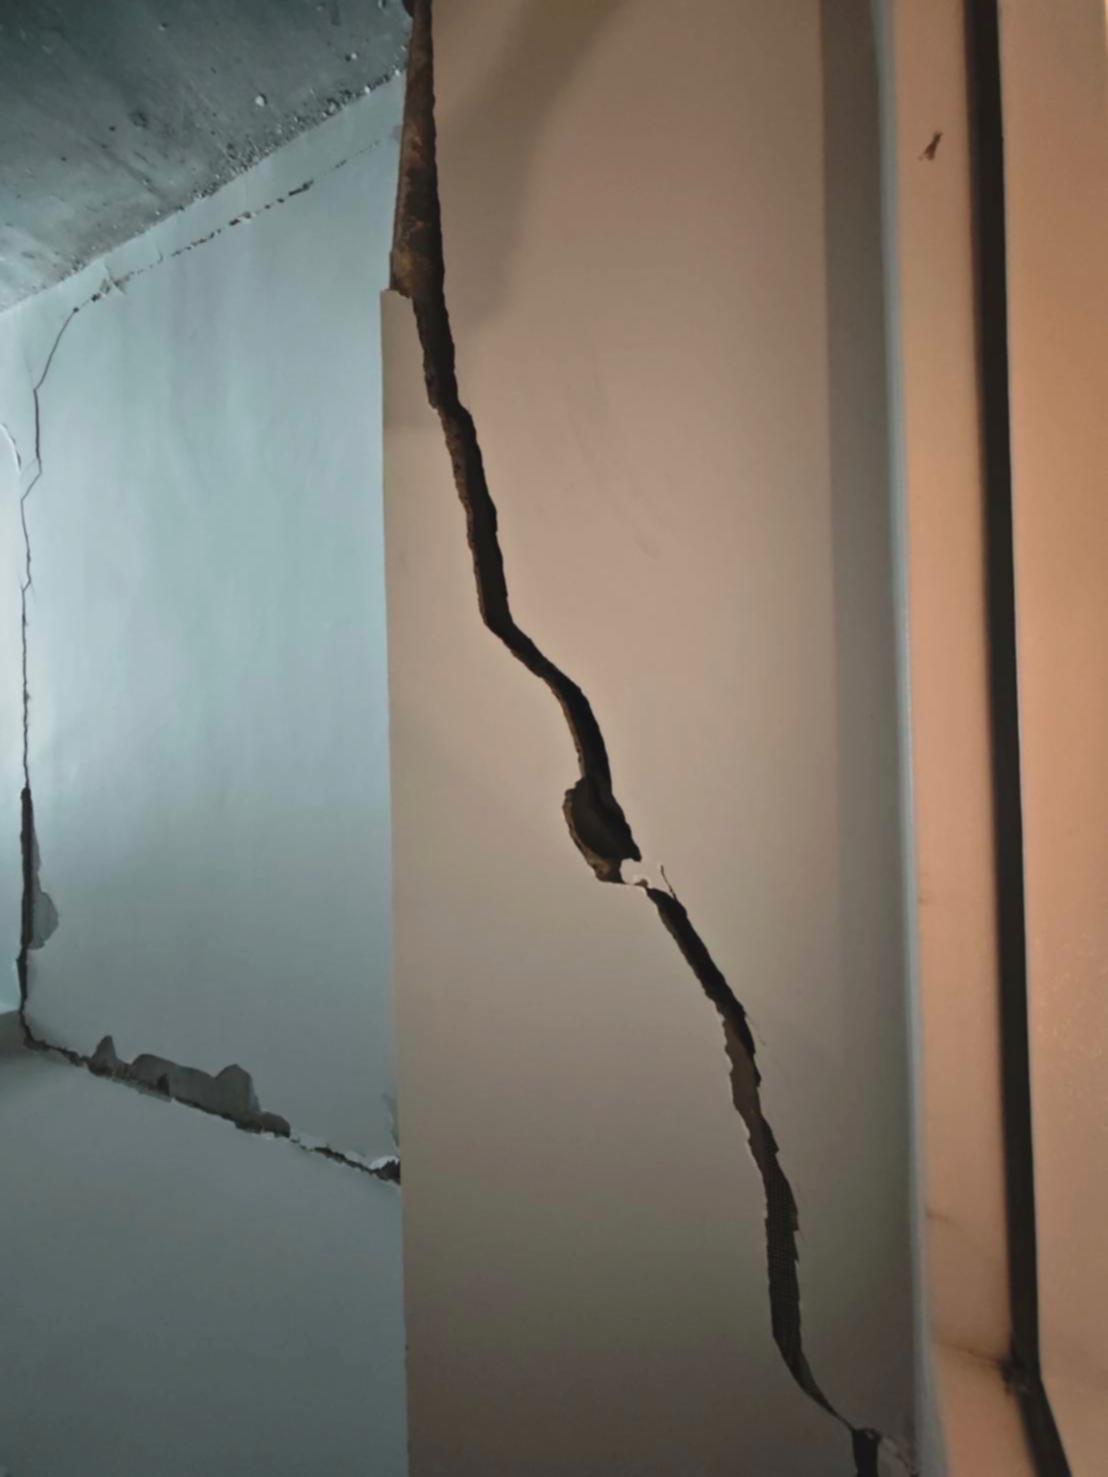High: (6, 2, 908, 1475)
